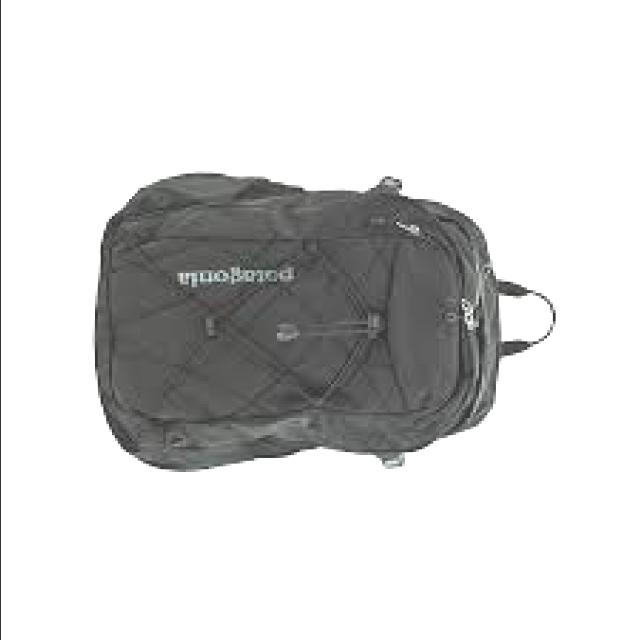backpack: (95, 169, 559, 473)
